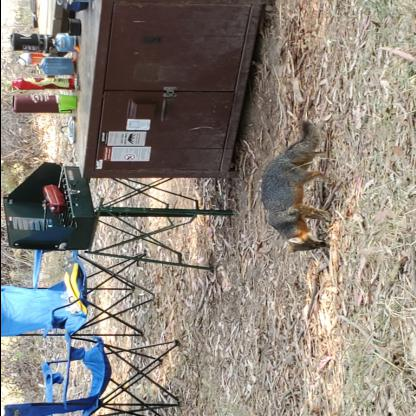zorro: (257, 116, 340, 258)
